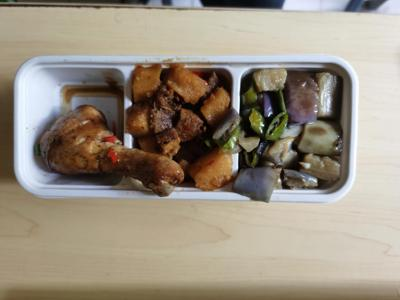jrtd: (130, 65, 240, 197)
jt: (26, 69, 186, 202)
sqz: (241, 65, 346, 190)
